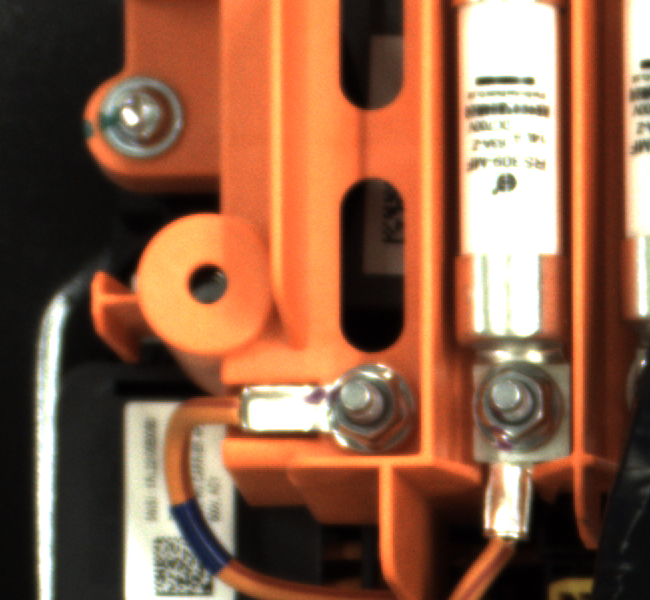screw_m: (93, 74, 198, 161)
screw_s: (463, 358, 561, 468), (312, 366, 426, 455)
